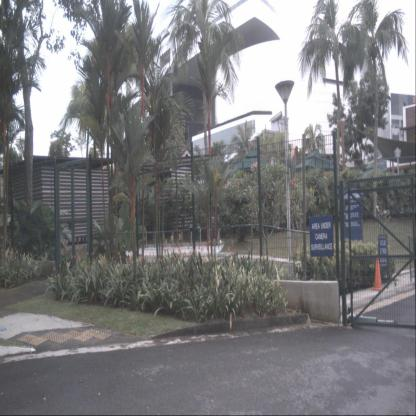movable_object-trafficcone: (372, 256, 384, 292)
